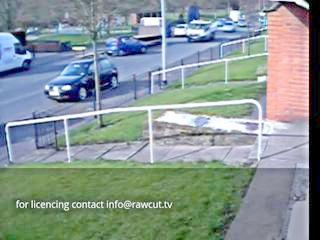Car: (50, 62, 117, 99), (0, 33, 33, 76), (106, 35, 145, 56), (188, 20, 215, 44), (245, 13, 267, 34), (214, 19, 235, 33), (172, 23, 188, 37), (237, 16, 247, 28)
